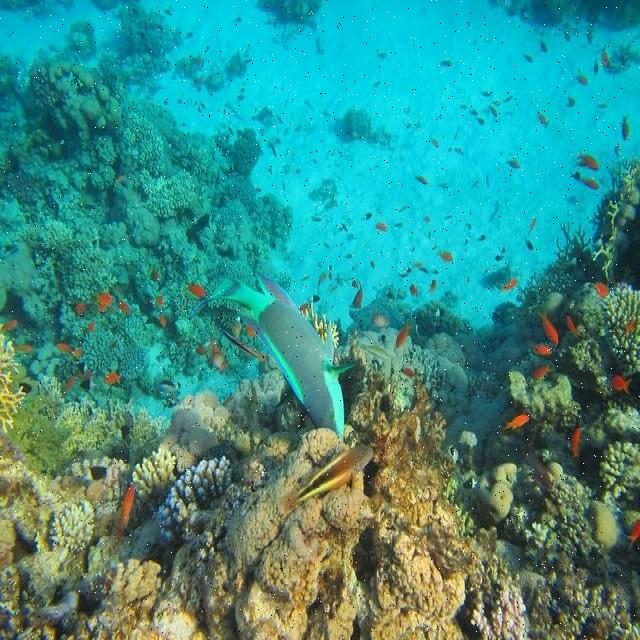fish: (190, 273, 362, 440), (280, 446, 371, 513), (537, 311, 559, 345), (119, 485, 136, 528), (395, 321, 415, 345), (574, 172, 599, 190), (612, 374, 631, 395), (576, 154, 600, 170), (534, 362, 555, 377), (506, 416, 530, 428), (628, 521, 639, 547), (536, 110, 550, 126), (496, 280, 518, 290), (573, 430, 581, 456), (436, 250, 454, 261), (532, 345, 551, 355), (600, 48, 609, 69), (504, 159, 522, 169), (622, 116, 629, 141), (566, 316, 577, 331), (596, 284, 608, 296), (575, 76, 589, 85), (594, 58, 599, 75), (411, 285, 418, 297), (376, 224, 388, 230)
reefs: (0, 8, 639, 639)
